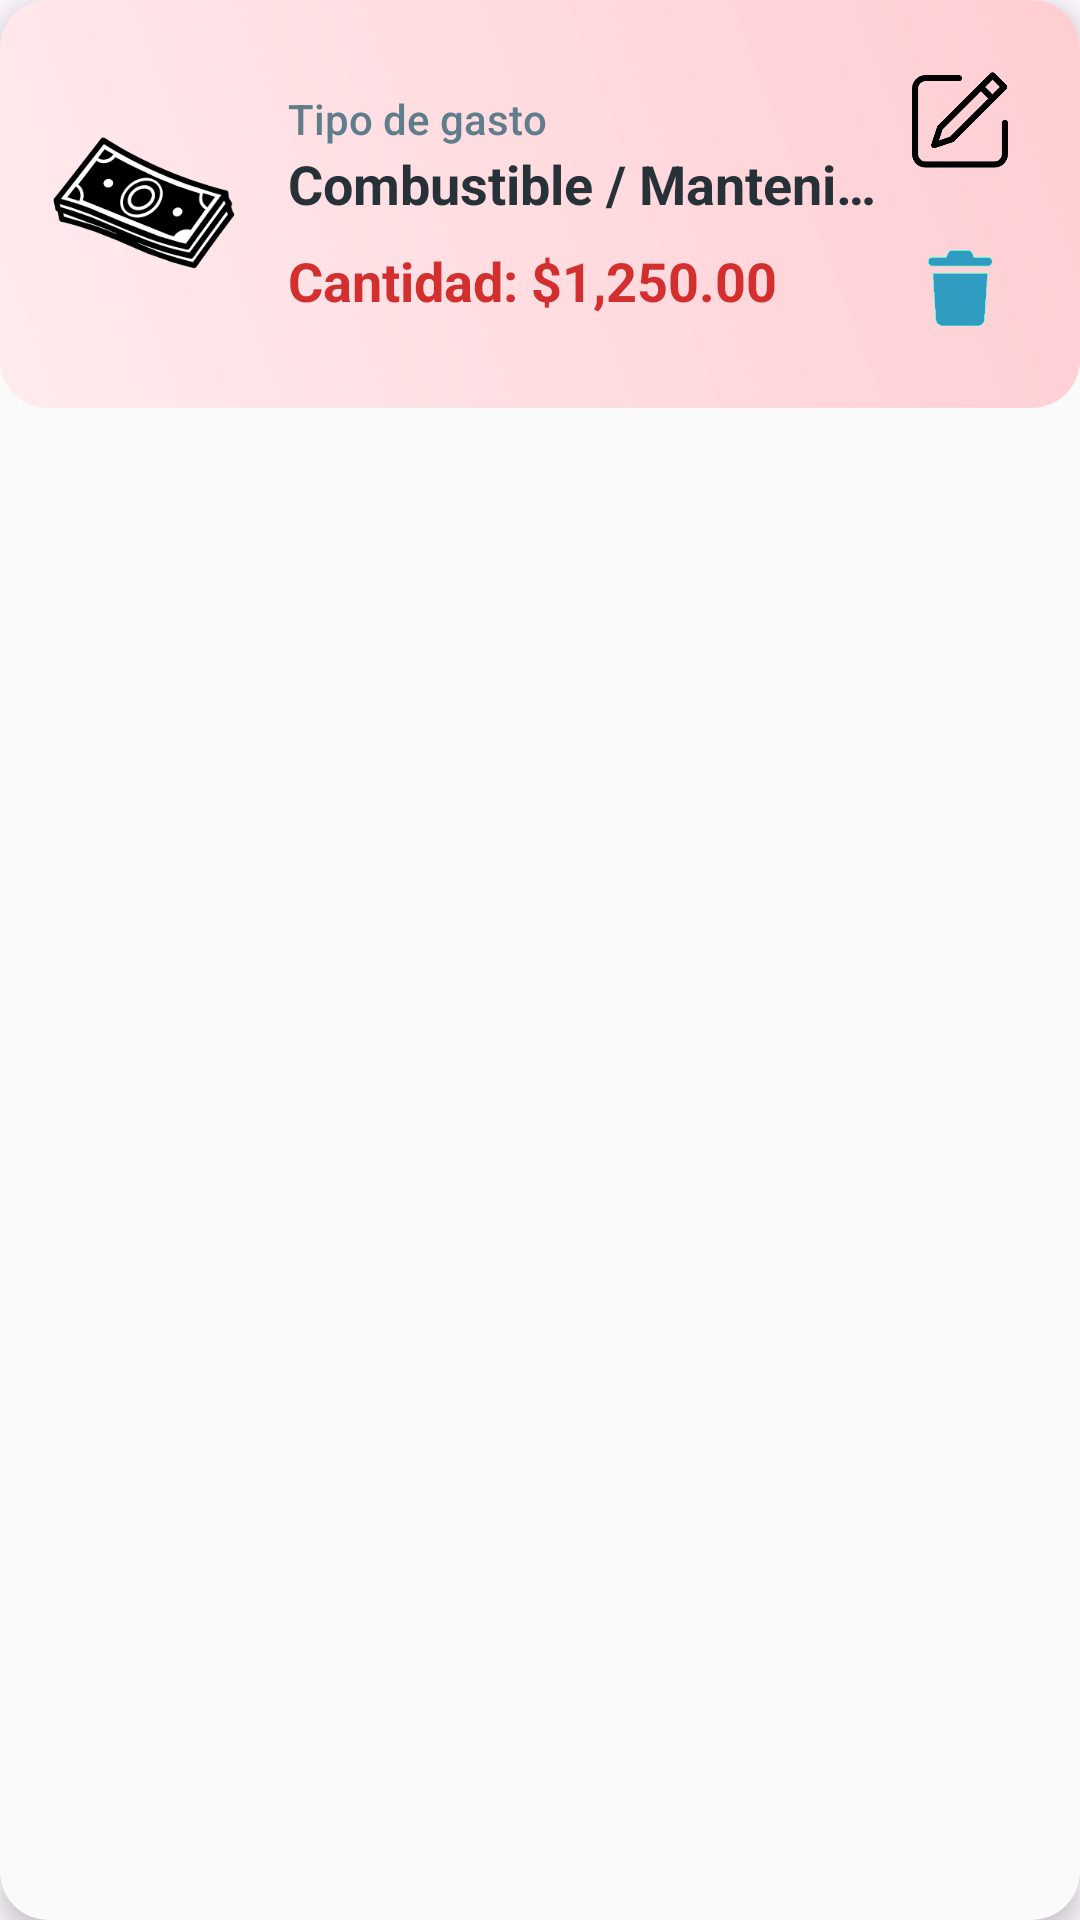

Point at icon controls on the screen. Image size 1080w x 1920h, points as (x=x, y=y).
Editar gasto: (x=960, y=120)
Eliminar gasto: (x=960, y=288)
Icono gasto: (x=144, y=203)
